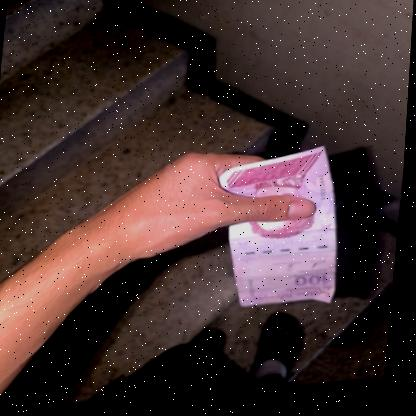one_hundred-front-vef: (209, 146, 351, 320)
